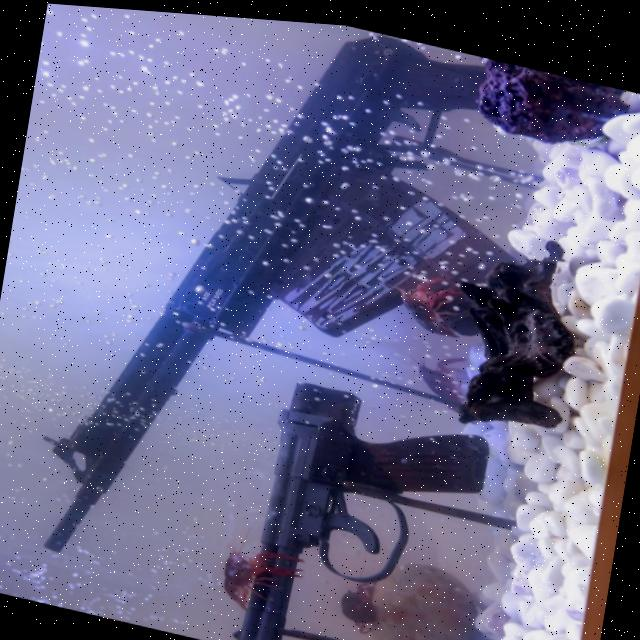firearm: (22, 1, 495, 630)
pistol: (232, 367, 493, 640)
